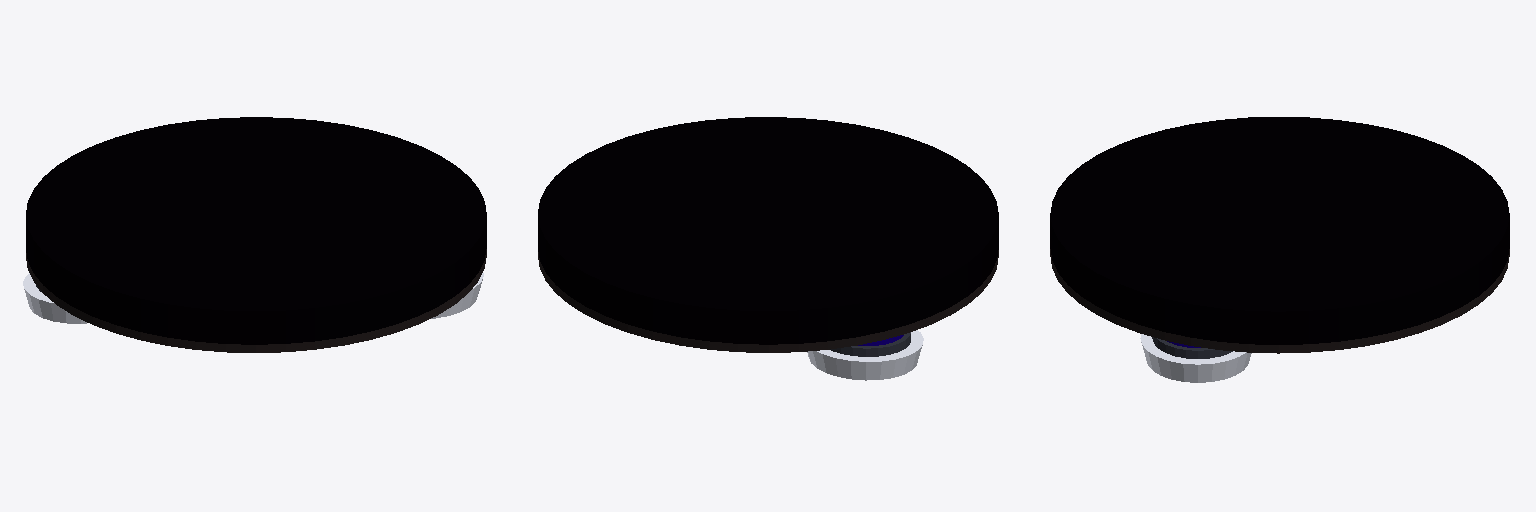
3 views of the same model, side by side, from view 1: azimuth 30°, elevation 25°; view 2: azimuth 150°, elevation 25°; view 3: azimuth 270°, elevation 25° (orthographic).
Visible parts, largest first — view 1: mergedBlocks; view 2: mergedBlocks; view 3: mergedBlocks.
Part boxes in pixels (x1,y1,x2,y2): mergedBlocks: (23, 117, 486, 352); mergedBlocks: (538, 117, 998, 380); mergedBlocks: (1050, 117, 1509, 382).
Size of the model in its own units: 2 by 0.4 by 1.99.